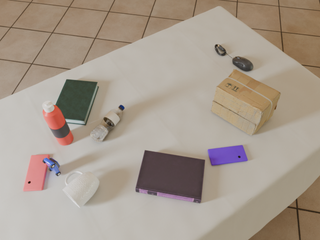book: (136, 150, 205, 203), (55, 79, 98, 125)
bottle: (42, 101, 73, 145), (90, 105, 124, 142)
box: (211, 69, 281, 135)
cup: (63, 171, 99, 208)
mouse: (232, 56, 253, 71)
phone: (23, 155, 49, 191), (208, 145, 248, 165)
toy_car: (42, 157, 60, 176)
